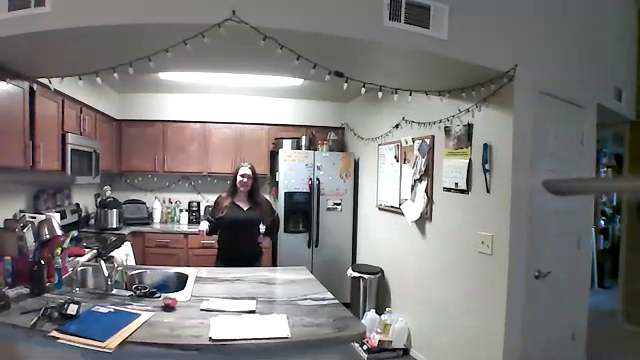down: (192, 217, 213, 245)
